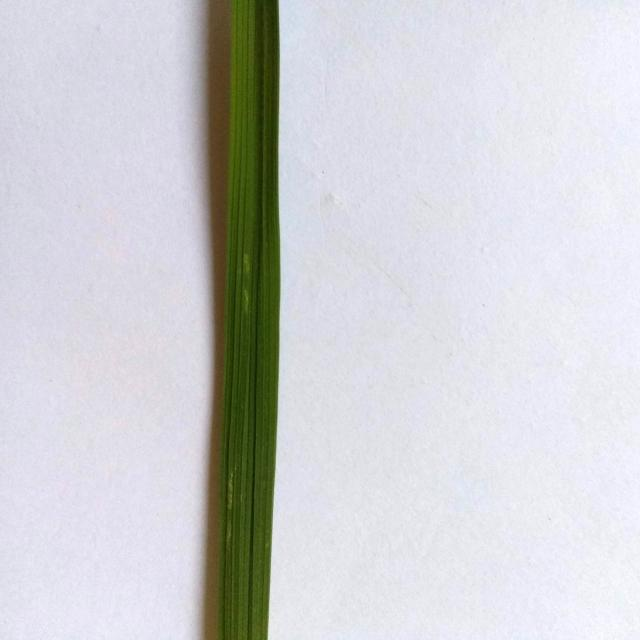Rice_Healthy: (217, 0, 280, 640)
